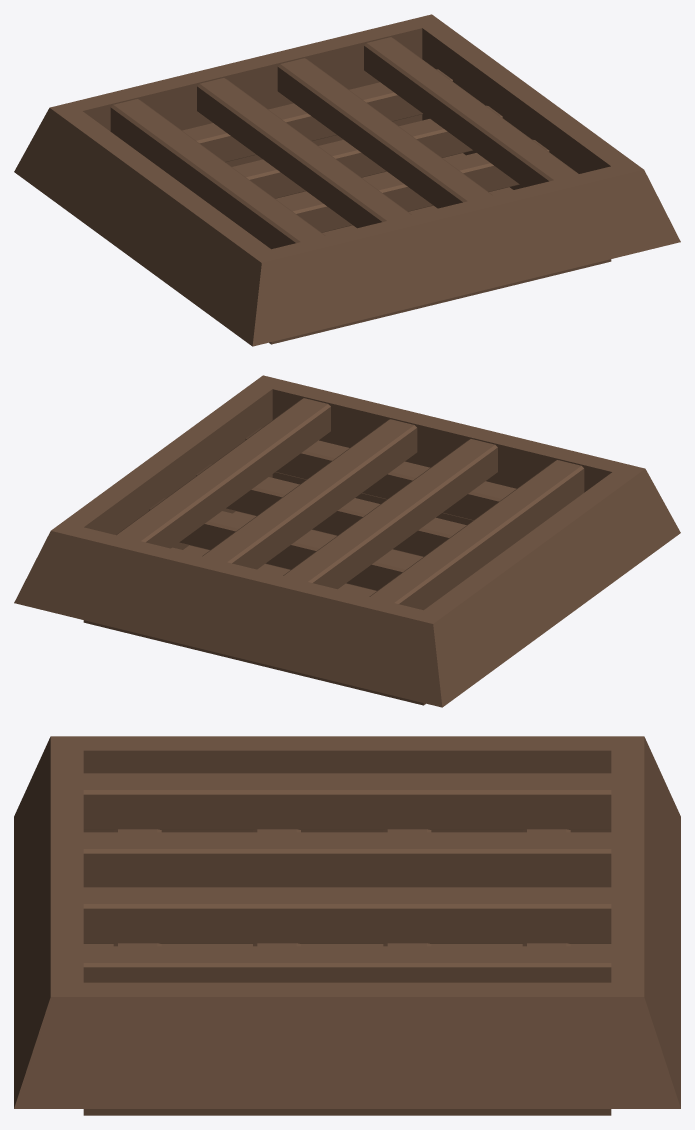
File: UndergroundJail.fbx
3 renders of one model, top to bottom at view 1: azimuth 30°, elevation 25°; view 2: azimuth 150°, elevation 25°; view 3: azimuth 270°, elevation 25°, orthographic. The views are drawn at different scales.
Visible parts, largest first — view 1: UndergroundJail; view 2: UndergroundJail; view 3: UndergroundJail.
Part boxes in pixels (<box>): UndergroundJail: <box>14,14,680,346</box>; UndergroundJail: <box>14,375,680,707</box>; UndergroundJail: <box>14,736,680,1115</box>.
Size of the model in its own units: 7.28 by 1.55 by 7.02.
